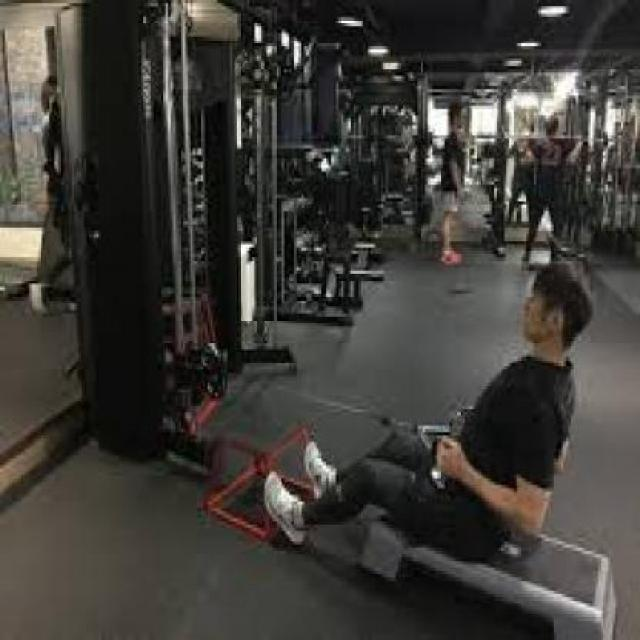Seated Cable Rows: (49, 1, 632, 640)
